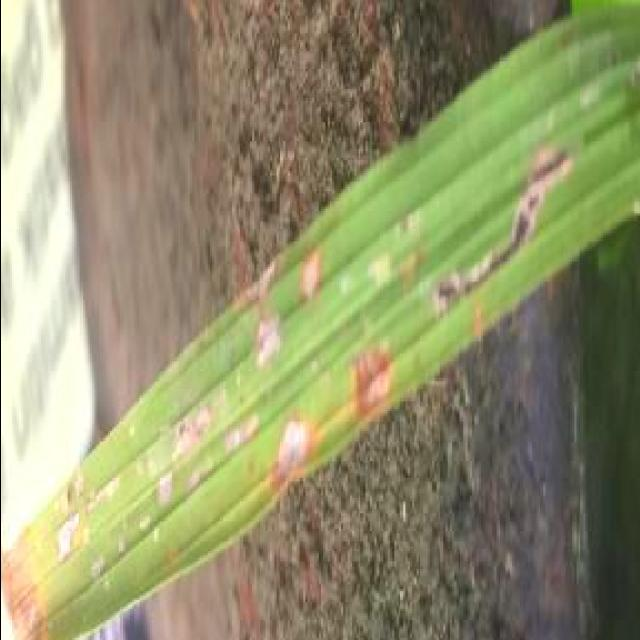Leaf_Blast: (438, 138, 592, 318), (262, 402, 334, 498), (238, 280, 302, 376), (339, 347, 414, 422), (280, 252, 349, 316)
